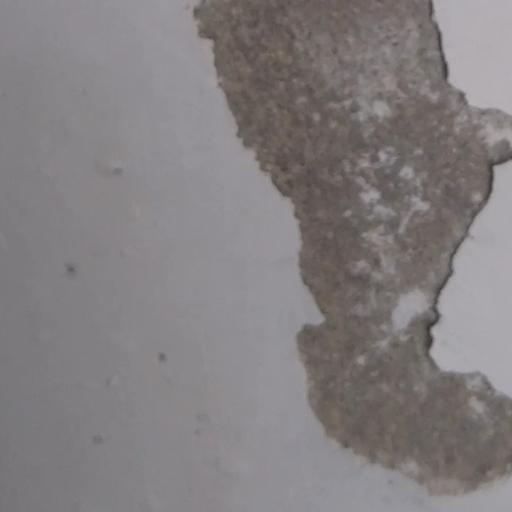peeling: (171, 2, 512, 507)
